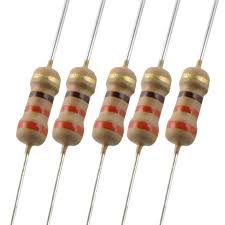resistor: (163, 49, 213, 180), (11, 50, 62, 171), (126, 46, 168, 170)
